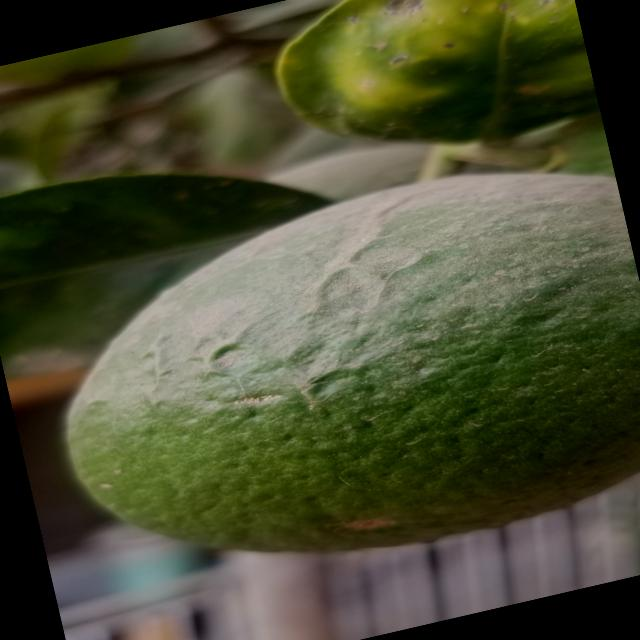Unripe: (15, 129, 640, 640)
